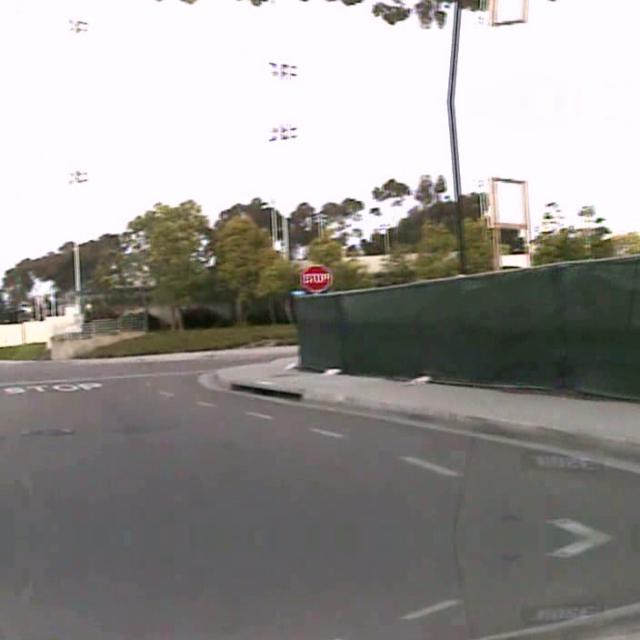stop: (300, 262, 332, 292)
